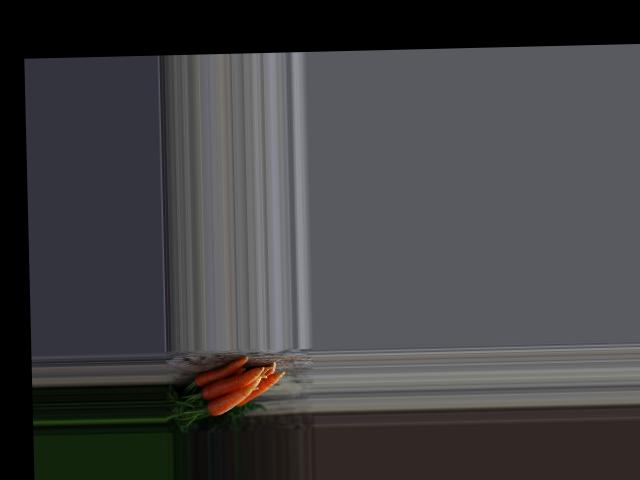carrot: (192, 355, 255, 388)
